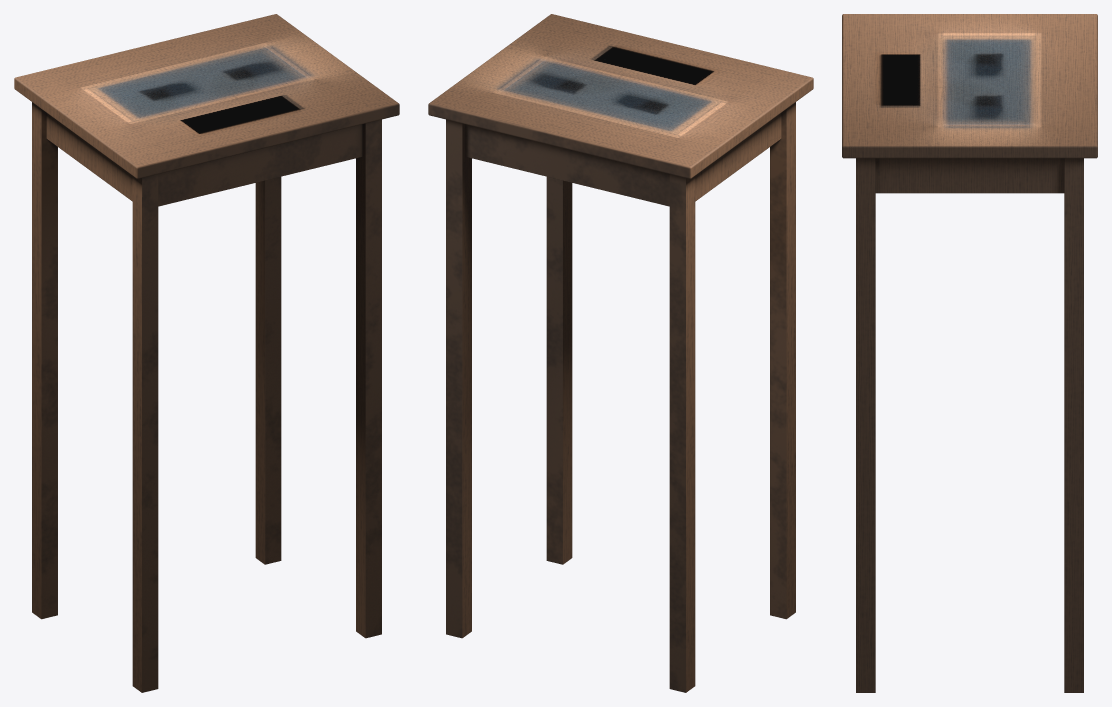
The model's file is 814_air.glb.
3 views of the same model, side by side, from view 1: azimuth 30°, elevation 25°; view 2: azimuth 150°, elevation 25°; view 3: azimuth 270°, elevation 25° (orthographic). The views are drawn at different scales.
Parts seen in each view (by area): view 1: Table; view 2: Table; view 3: Table.
Part boxes in pixels (x1,y1,x2,y2): Table: [14, 14, 399, 692]; Table: [428, 14, 813, 692]; Table: [842, 14, 1097, 692].
Size of what is drawn, in the model's own units: 1.6 by 3.1 by 1.3.
Materials: 1 (1 with a texture image).
